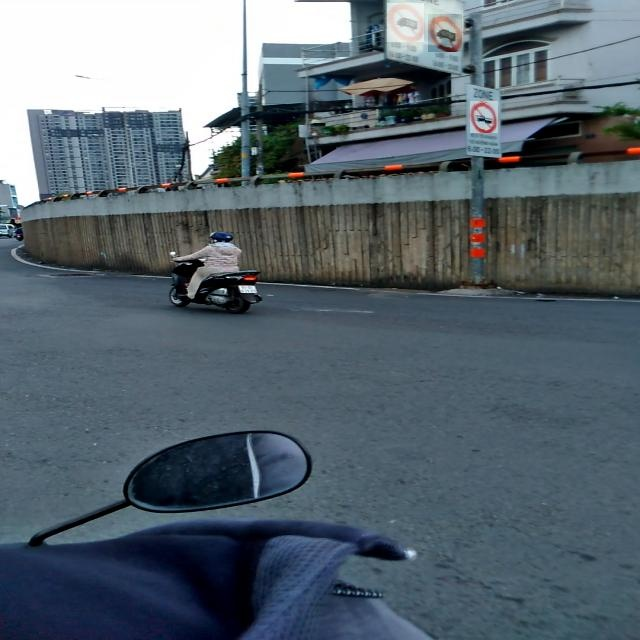bien_cam: (387, 3, 424, 42), (428, 14, 462, 52), (470, 101, 498, 133)
